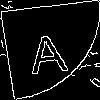A: (25, 24, 72, 75)
